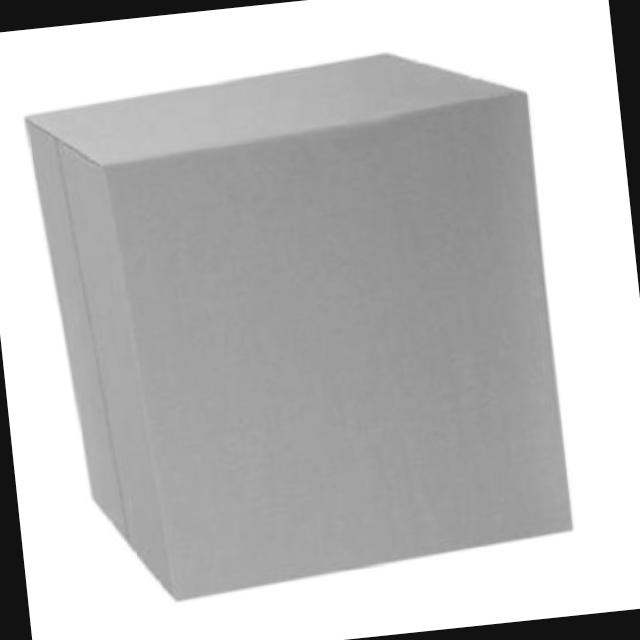box: (10, 22, 602, 620)
